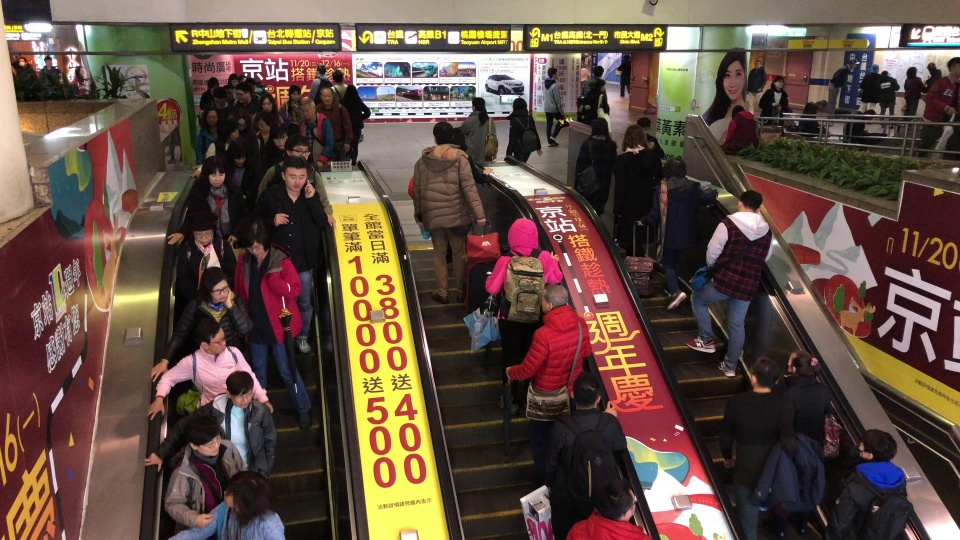person_head: (222, 470, 274, 520), (596, 479, 637, 523), (184, 415, 222, 457), (857, 428, 897, 462), (198, 267, 230, 304), (225, 370, 255, 409), (748, 355, 781, 390), (570, 371, 600, 409), (242, 220, 271, 259), (195, 319, 227, 354), (507, 217, 538, 252), (189, 208, 218, 245), (280, 155, 309, 191), (785, 349, 820, 377), (540, 282, 569, 313), (201, 155, 228, 188), (282, 132, 310, 162), (621, 124, 649, 150), (736, 190, 763, 215), (269, 121, 290, 151), (215, 118, 239, 143), (226, 140, 248, 167), (432, 121, 454, 145), (662, 157, 686, 179), (231, 108, 252, 131), (255, 110, 275, 134), (450, 126, 468, 151), (588, 117, 609, 138), (234, 82, 253, 104), (298, 97, 315, 119), (203, 104, 219, 126), (946, 55, 960, 78), (259, 92, 275, 112), (212, 86, 227, 107), (318, 86, 333, 105), (511, 97, 528, 113), (636, 117, 651, 134), (242, 77, 256, 94), (471, 96, 486, 111), (288, 84, 301, 101), (344, 83, 357, 100), (206, 76, 219, 92), (730, 105, 744, 119), (771, 75, 784, 90), (222, 85, 233, 102), (863, 107, 876, 121), (905, 65, 918, 79), (593, 78, 605, 93), (331, 69, 344, 82), (847, 57, 860, 70), (590, 65, 604, 77), (227, 73, 239, 86), (314, 62, 326, 75), (546, 66, 558, 79), (816, 98, 828, 110), (74, 65, 85, 78), (867, 63, 879, 74), (43, 55, 53, 67), (57, 72, 67, 84), (926, 61, 936, 73), (17, 57, 27, 67), (753, 59, 762, 69), (880, 69, 890, 77), (622, 53, 630, 61)
person_vbox: (503, 282, 593, 492), (232, 219, 313, 430), (683, 190, 774, 377), (483, 217, 563, 417), (143, 371, 278, 481), (541, 371, 628, 540), (255, 154, 328, 355), (718, 355, 797, 540), (411, 121, 486, 304), (145, 318, 274, 420), (636, 157, 718, 311), (768, 349, 832, 540), (149, 266, 253, 383), (162, 415, 249, 533), (823, 428, 909, 540), (164, 470, 286, 540), (256, 132, 336, 229), (166, 155, 249, 245), (174, 208, 237, 318), (444, 126, 494, 264), (613, 123, 662, 256), (563, 479, 657, 540), (572, 117, 618, 221), (915, 55, 960, 161), (188, 117, 240, 178), (315, 86, 352, 161), (338, 83, 371, 166), (504, 97, 544, 164), (298, 97, 335, 167), (457, 96, 496, 162), (826, 57, 861, 127), (718, 105, 759, 156), (258, 121, 290, 183), (542, 66, 564, 147), (842, 107, 888, 145), (232, 108, 260, 170), (226, 140, 253, 198), (758, 75, 788, 127), (194, 104, 219, 165), (796, 98, 832, 137), (877, 69, 900, 129), (636, 116, 664, 161), (252, 92, 289, 126), (902, 65, 923, 122), (202, 86, 236, 121), (746, 59, 767, 115), (856, 63, 879, 112), (585, 78, 609, 124), (255, 110, 280, 154), (278, 84, 304, 124), (308, 62, 333, 100), (233, 82, 259, 115), (580, 64, 605, 96), (198, 76, 219, 110), (38, 55, 62, 84), (328, 68, 348, 102), (923, 61, 942, 94), (617, 53, 631, 97), (15, 57, 38, 80), (69, 65, 86, 96), (242, 77, 261, 102)
